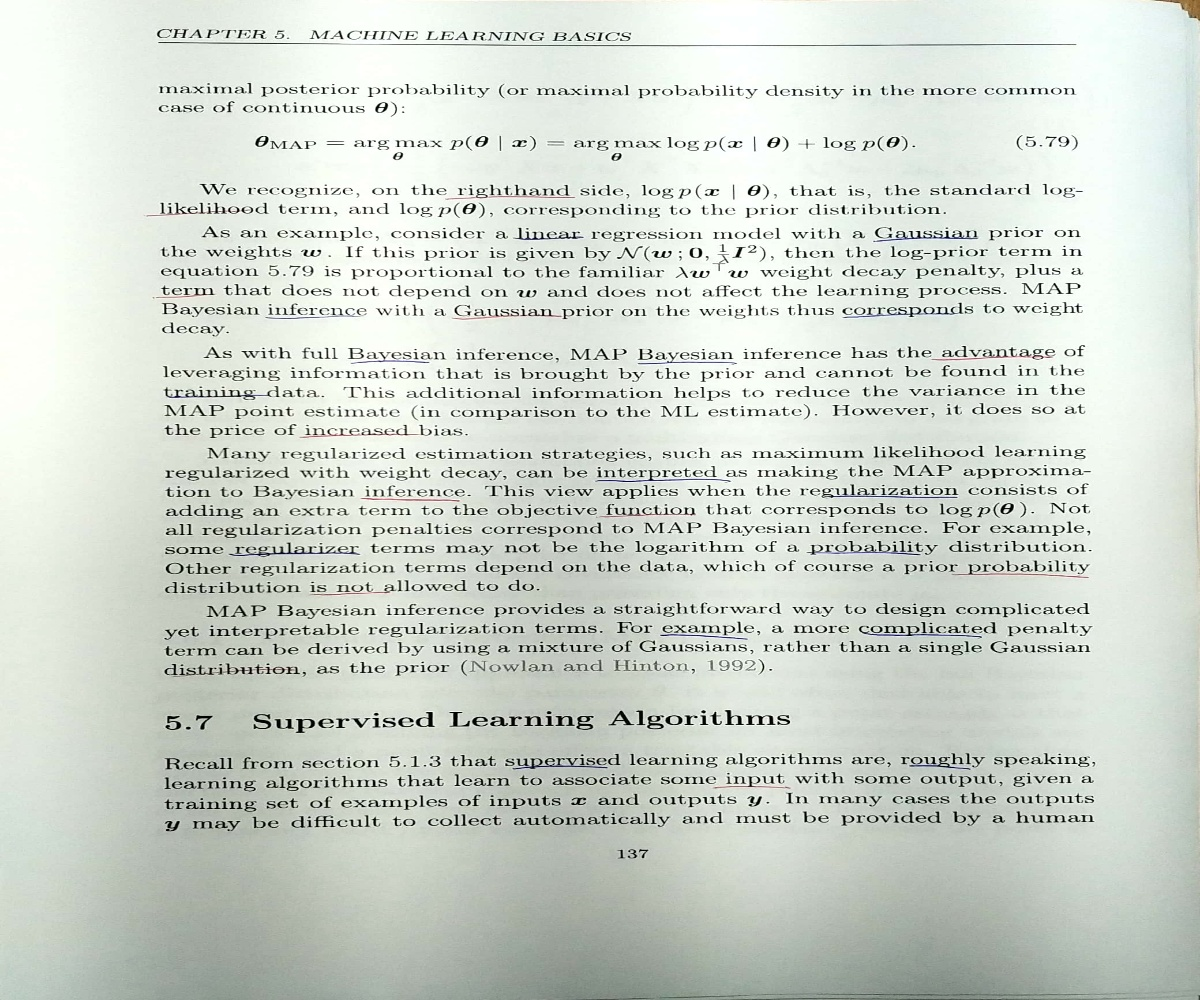underline: (590, 474, 734, 486), (952, 571, 1089, 582), (858, 628, 983, 640), (297, 432, 432, 441), (160, 668, 302, 676), (820, 493, 960, 501), (660, 631, 753, 643), (146, 208, 257, 218), (165, 394, 320, 401), (931, 353, 1058, 361), (224, 551, 366, 558), (871, 236, 979, 245), (804, 550, 924, 558), (443, 193, 580, 200), (451, 313, 563, 321), (508, 763, 613, 771), (361, 495, 460, 503), (310, 587, 397, 596), (841, 310, 969, 316), (350, 357, 432, 366), (906, 762, 975, 772), (596, 511, 694, 518), (636, 359, 736, 365), (263, 315, 362, 321), (711, 784, 793, 790), (511, 235, 588, 240), (161, 292, 211, 299)
